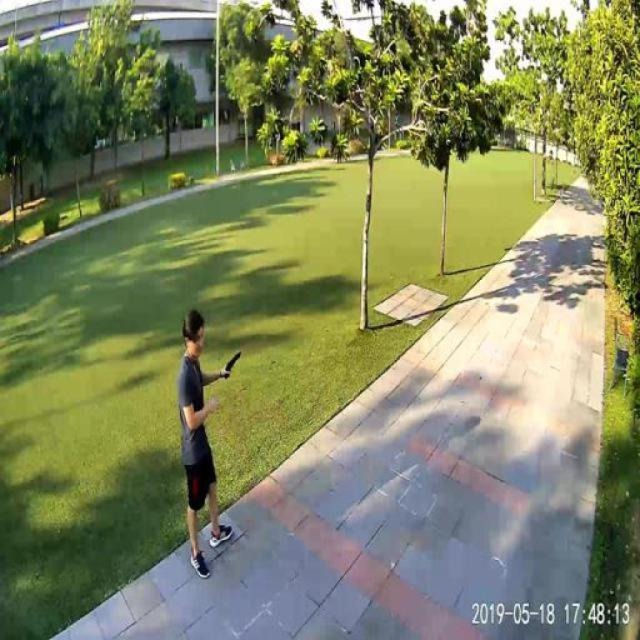pistol: (223, 348, 240, 378)
